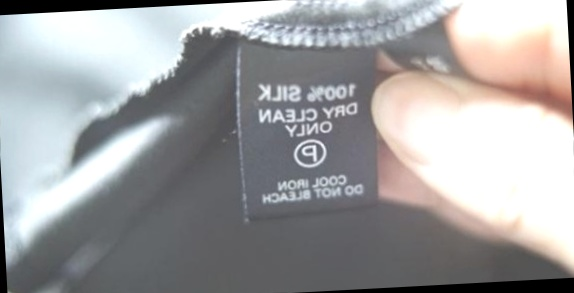dry_clean_any_solvent_except_trichloroethylene: (291, 136, 327, 169)
